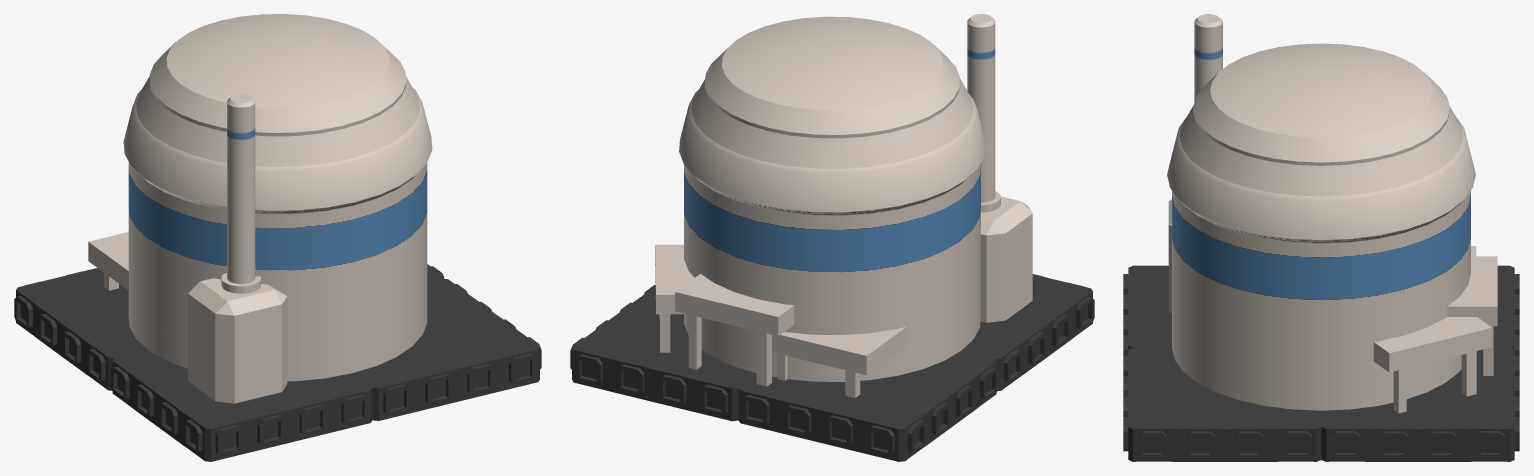
Rendered from Geothermal.fbx.
The picture shows the model from 3 angles, left to right: view 1: azimuth 30°, elevation 25°; view 2: azimuth 150°, elevation 25°; view 3: azimuth 270°, elevation 25°; orthographic projection.
Visible parts, largest first — view 1: Cylinder, Base8x8, Cylinder.001; view 2: Cylinder, Base8x8, Cylinder.001; view 3: Cylinder, Base8x8, Cylinder.001.
Boxes of the visible parts, bbox=[...] form: Cylinder: bbox=[88, 14, 432, 403]; Base8x8: bbox=[14, 264, 541, 461]; Cylinder.001: bbox=[136, 76, 419, 166]; Cylinder: bbox=[655, 14, 1032, 397]; Base8x8: bbox=[570, 274, 1094, 461]; Cylinder.001: bbox=[691, 78, 973, 168]; Cylinder: bbox=[1167, 14, 1497, 413]; Base8x8: bbox=[1123, 265, 1519, 461]; Cylinder.001: bbox=[1179, 105, 1463, 196].
Bounding box in the file's own units: 820 × 730 × 820.
Materials: 2 (1 with a texture image).
